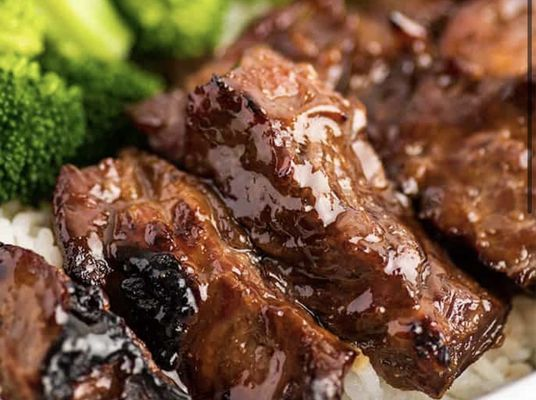curry: (0, 0, 168, 209)
